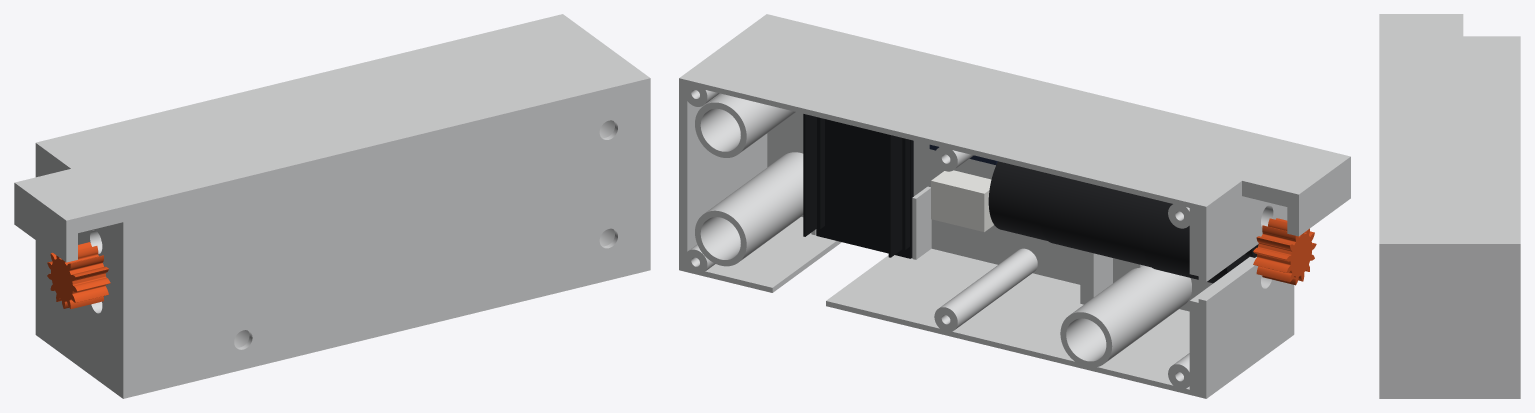
The model's file is v3_open.glb.
3 renders of one model, left to right at view 1: azimuth 30°, elevation 25°; view 2: azimuth 150°, elevation 25°; view 3: azimuth 270°, elevation 25°, orthographic. The views are drawn at different scales.
Parts seen in each view (by area): view 1: tub, pinion; view 2: tub, motor, esp, rail, pinion; view 3: tub.
Boxes of the visible parts, x1,y1,x2,y2 form: tub: (14,14,650,398); pinion: (47,242,110,308); tub: (679,14,1350,398); motor: (988,161,1258,283); esp: (803,114,913,258); rail: (931,170,993,231); pinion: (1253,218,1316,285); tub: (1379,14,1520,398).
Size of the model in its own units: 0.175 by 0.055 by 0.0455.
